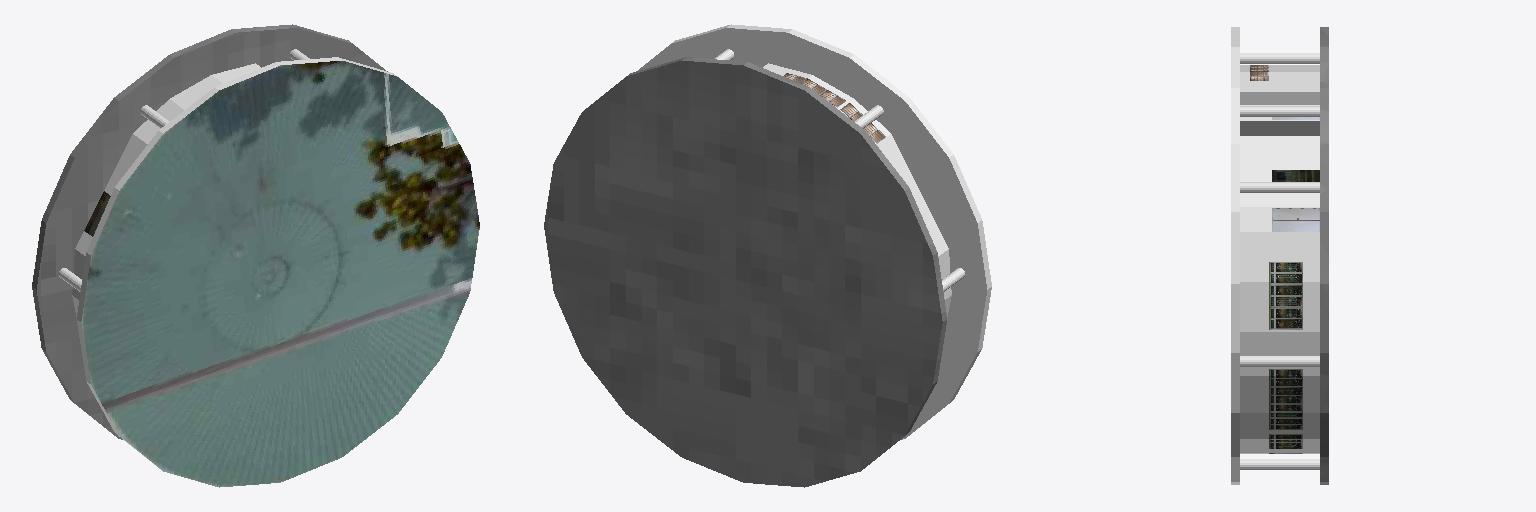
The picture shows the model from 3 angles: view 1: azimuth 30°, elevation 25°; view 2: azimuth 150°, elevation 25°; view 3: azimuth 270°, elevation 25°; orthographic projection.
Visible parts, largest first — view 1: polygon.771; view 2: polygon.771; view 3: polygon.771.
Boxes of the visible parts, box(x1,y1,x2,y2) form: polygon.771: box(32, 24, 479, 487); polygon.771: box(544, 24, 991, 487); polygon.771: box(1231, 27, 1328, 484).
Size of the model in its own units: 24.34 by 24.34 by 5.22.
Materials: 1 (1 with a texture image).